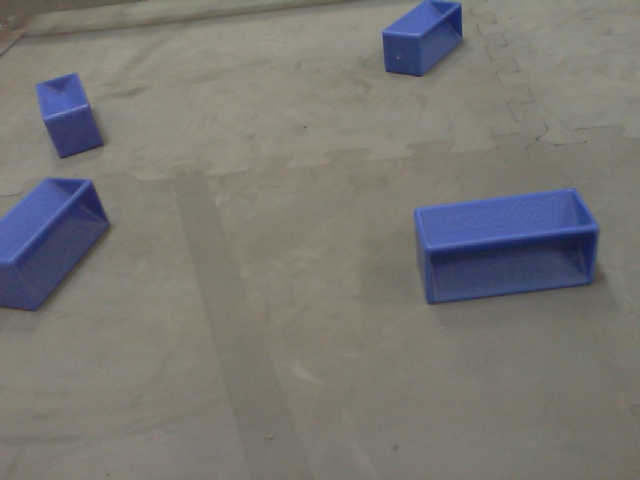BlueSample: (405, 185, 601, 310), (1, 176, 111, 328), (34, 66, 107, 167), (377, 1, 466, 82)
